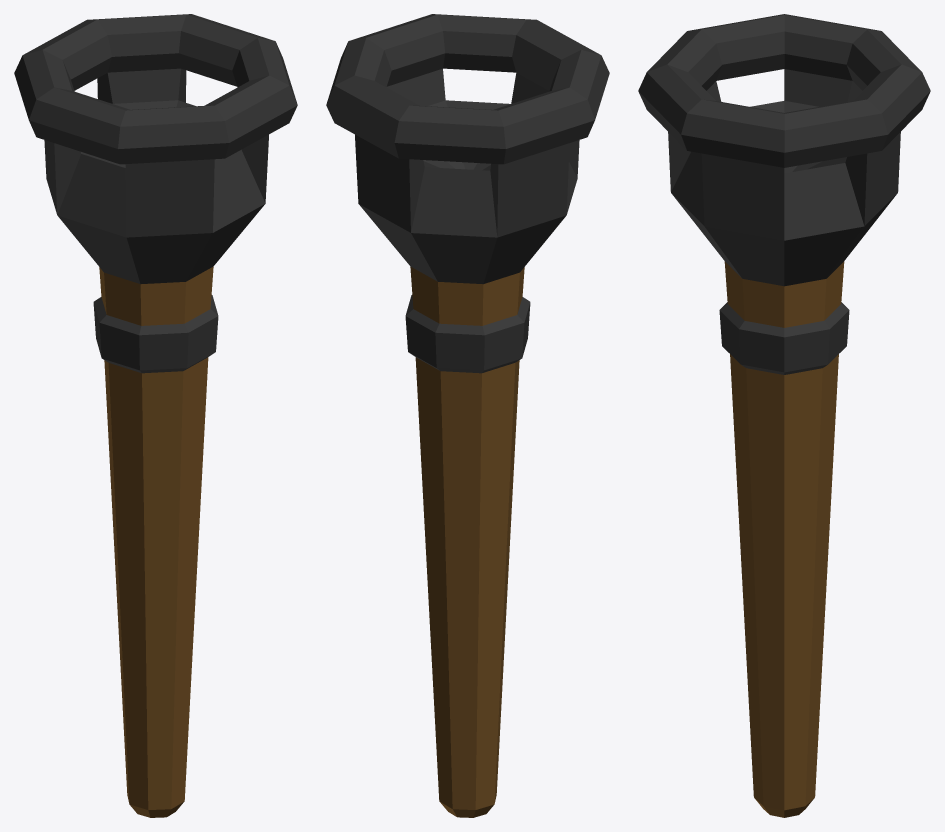
File: ast_prop_tocha.fbx
3 views of the same model, side by side, from view 1: azimuth 30°, elevation 25°; view 2: azimuth 150°, elevation 25°; view 3: azimuth 270°, elevation 25° (orthographic).
Visible parts, largest first — view 1: Cube; view 2: Cube; view 3: Cube.
Part boxes in pixels (box(x1,y1,x2,y2)): Cube: box(14, 14, 297, 817); Cube: box(326, 14, 609, 817); Cube: box(638, 14, 930, 817).
Size of the model in its own units: 6.34 by 17.88 by 6.34.
